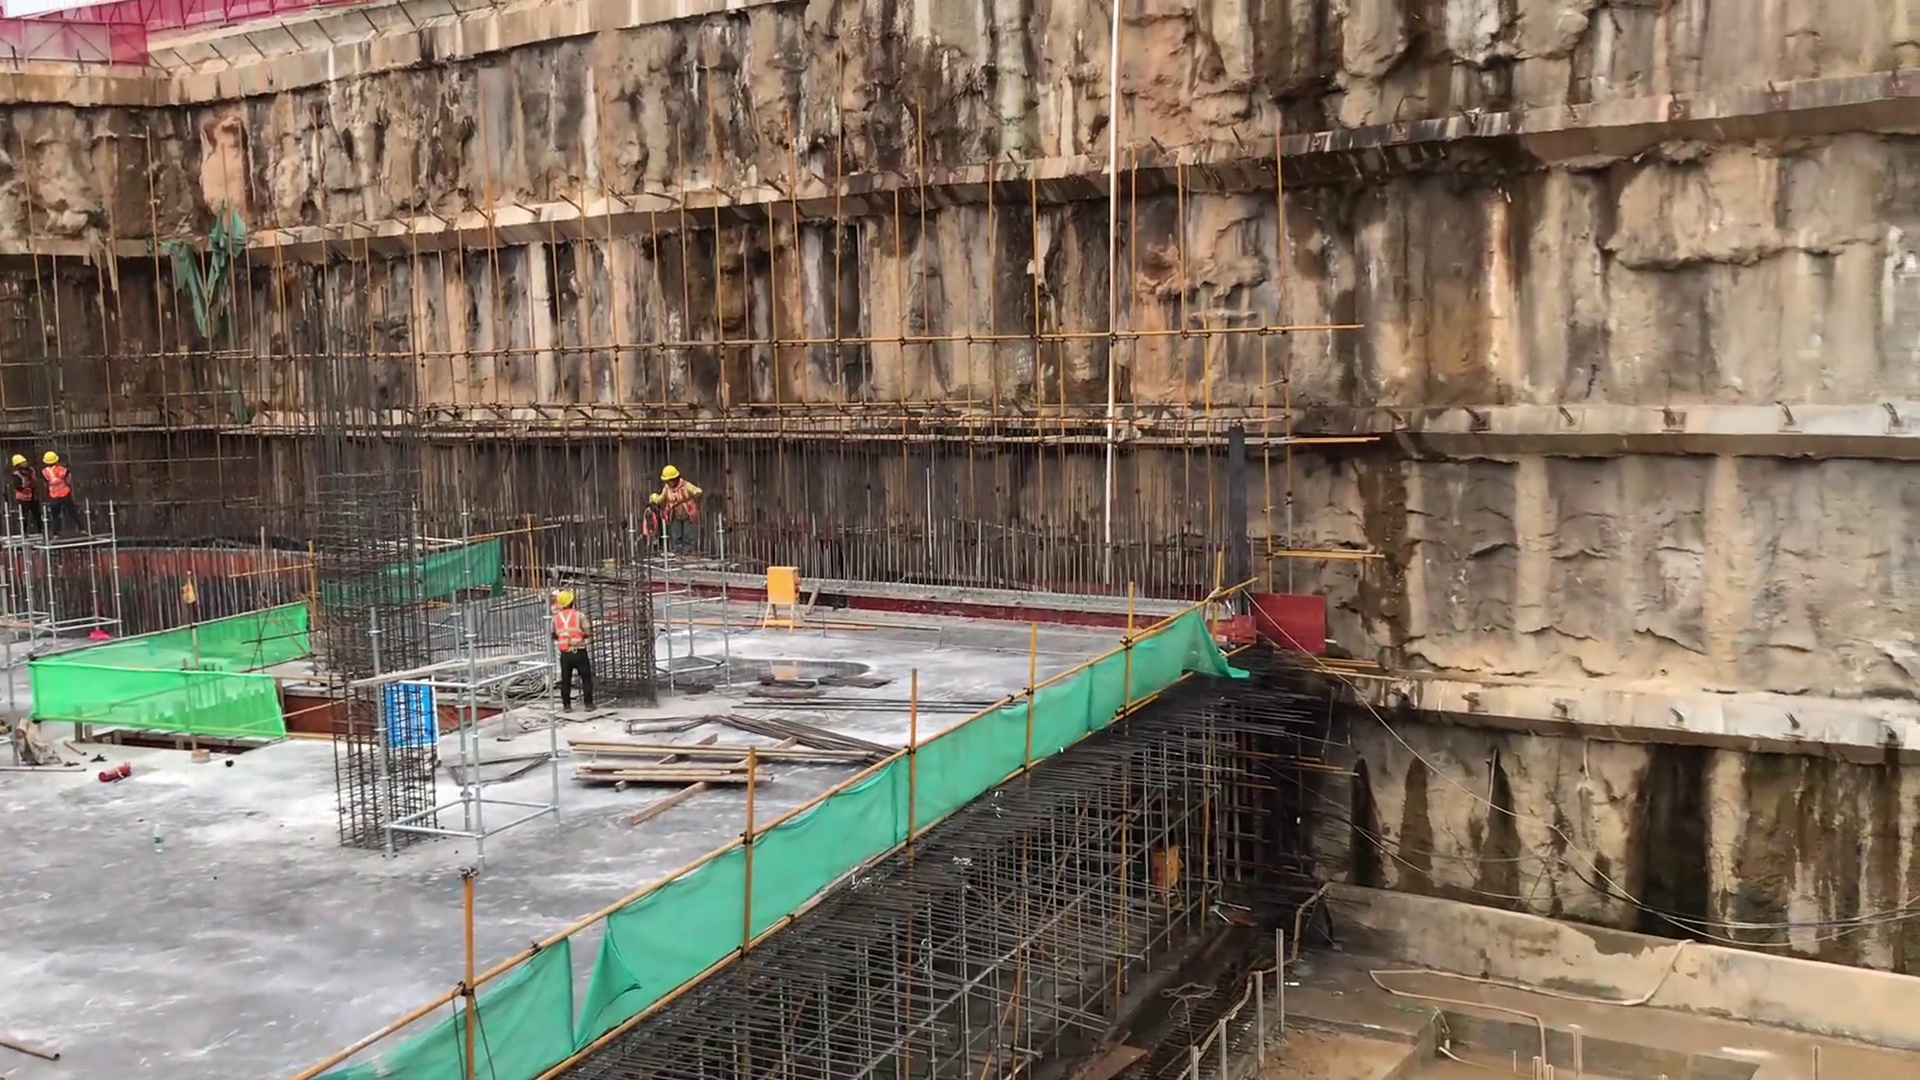helmet: (11, 443, 61, 469), (653, 459, 683, 483), (550, 588, 575, 606)
person: (545, 591, 602, 716), (645, 463, 702, 559), (5, 447, 74, 525)
vest: (539, 608, 585, 665), (43, 465, 73, 501)
